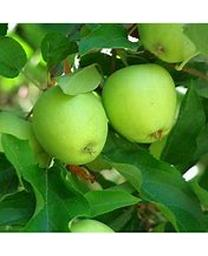apple: (34, 84, 108, 164), (103, 64, 177, 144), (137, 24, 207, 65)
